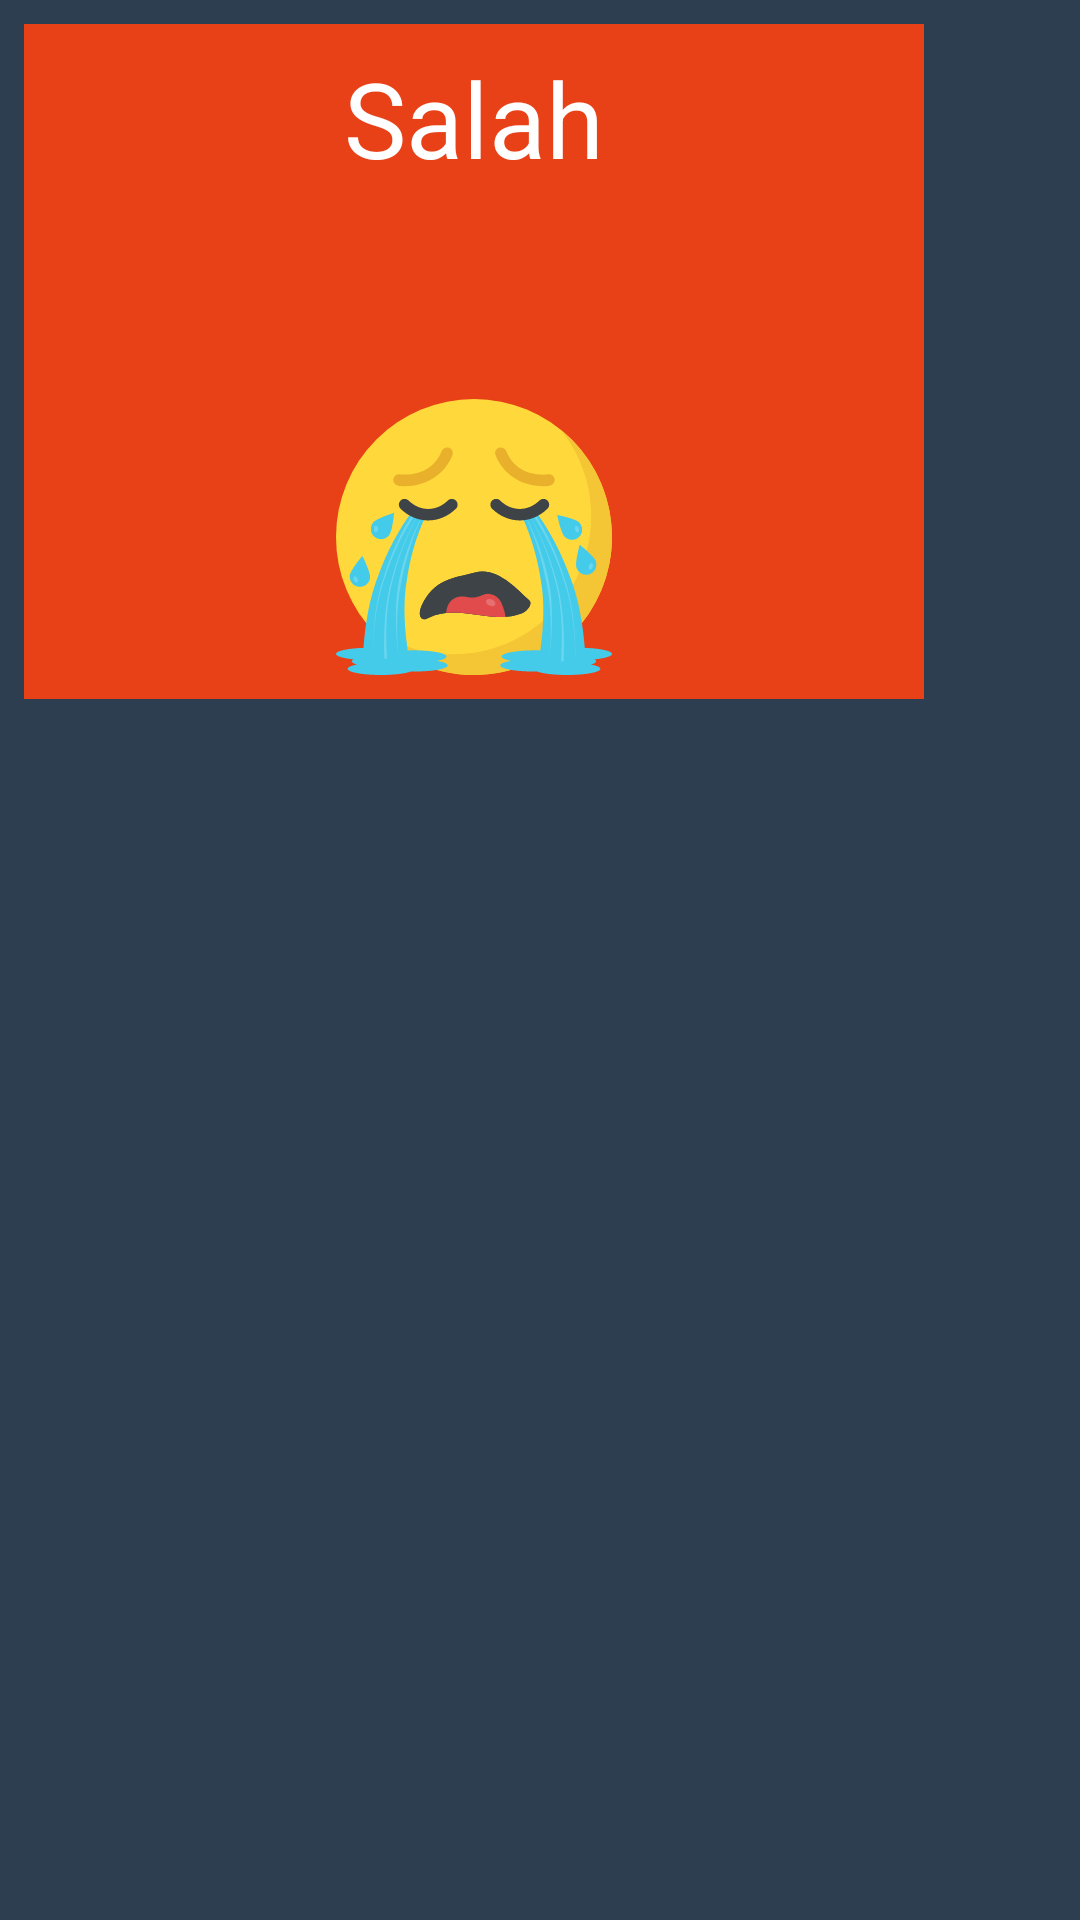

Point at icon controls on the screen. Image size 1080w x 1920h, points as (x=x, y=y).
crying: (x=474, y=537)
